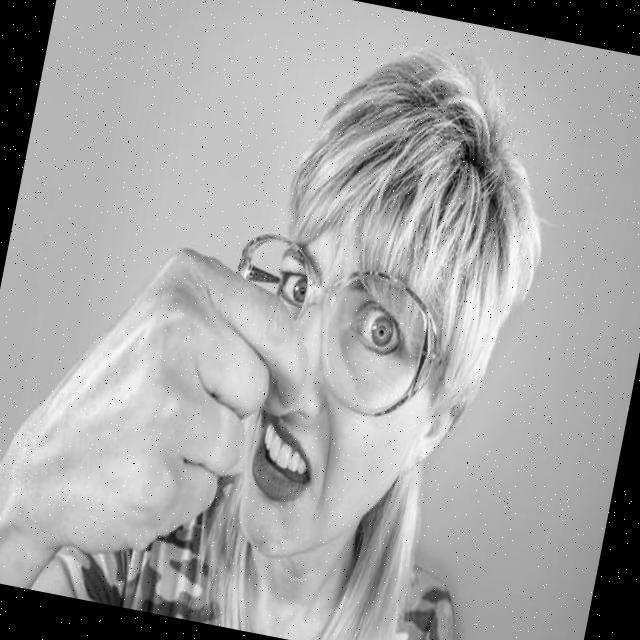Disgust: (215, 190, 460, 580)
